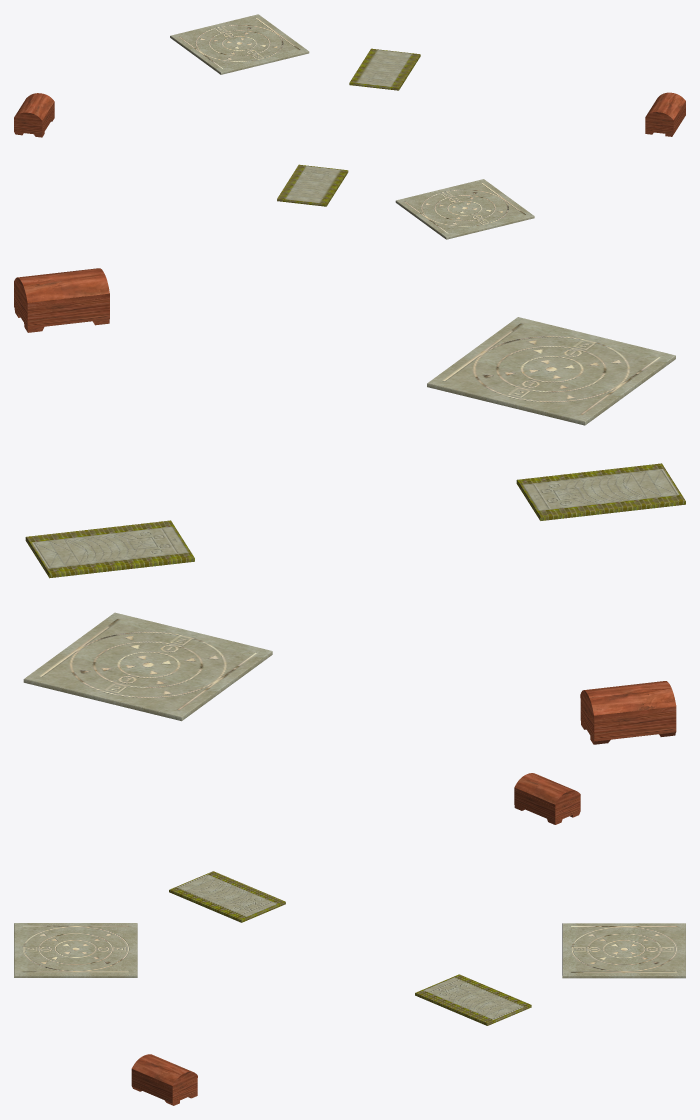
File: games.DAE
3 renders of one model, top to bottom at view 1: azimuth 30°, elevation 25°; view 2: azimuth 150°, elevation 25°; view 3: azimuth 270°, elevation 25°, orthographic. The views are drawn at different scales.
Visible parts, largest first — view 1: playing_field, playing_field01, target_range01, target_range, chest_top, chest_top01, chest, chest01; view 2: playing_field, playing_field01, target_range, target_range01, chest_top, chest_top01, chest01, chest; view 3: playing_field, playing_field01, target_range01, target_range, chest_top01, chest_top, chest, chest01.
Part boxes in pixels (bbox=[...]): playing_field: bbox=[170, 14, 309, 74]; playing_field01: bbox=[395, 179, 534, 239]; target_range01: bbox=[277, 164, 348, 206]; target_range: bbox=[349, 48, 420, 90]; chest_top: bbox=[14, 93, 54, 122]; chest_top01: bbox=[645, 92, 685, 122]; chest: bbox=[14, 104, 54, 137]; chest01: bbox=[645, 103, 685, 136]; playing_field: bbox=[23, 612, 272, 721]; playing_field01: bbox=[427, 317, 675, 425]; target_range: bbox=[25, 520, 194, 578]; target_range01: bbox=[516, 463, 685, 520]; chest_top: bbox=[580, 681, 676, 719]; chest_top01: bbox=[14, 268, 109, 306]; chest01: bbox=[14, 286, 109, 332]; chest: bbox=[580, 699, 676, 744]; playing_field: bbox=[562, 923, 685, 978]; playing_field01: bbox=[14, 923, 137, 977]; target_range01: bbox=[169, 871, 285, 922]; target_range: bbox=[415, 974, 531, 1025]; chest_top01: bbox=[131, 1054, 197, 1088]; chest_top: bbox=[514, 773, 580, 807]; chest: bbox=[514, 790, 580, 824]; chest01: bbox=[131, 1071, 197, 1105].
Size of the model in its own units: 19.83 by 18.21 by 0.8549.
Materials: 3 (3 with a texture image).
